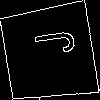J: (24, 27, 77, 60)
